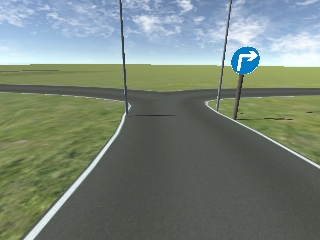right: (232, 47, 260, 74)
